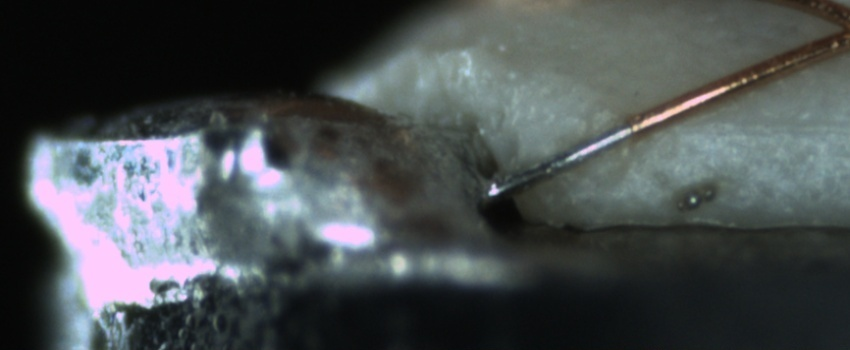CL: (812, 3, 849, 54)
DL: (676, 94, 850, 158)
TS: (485, 122, 634, 202)
